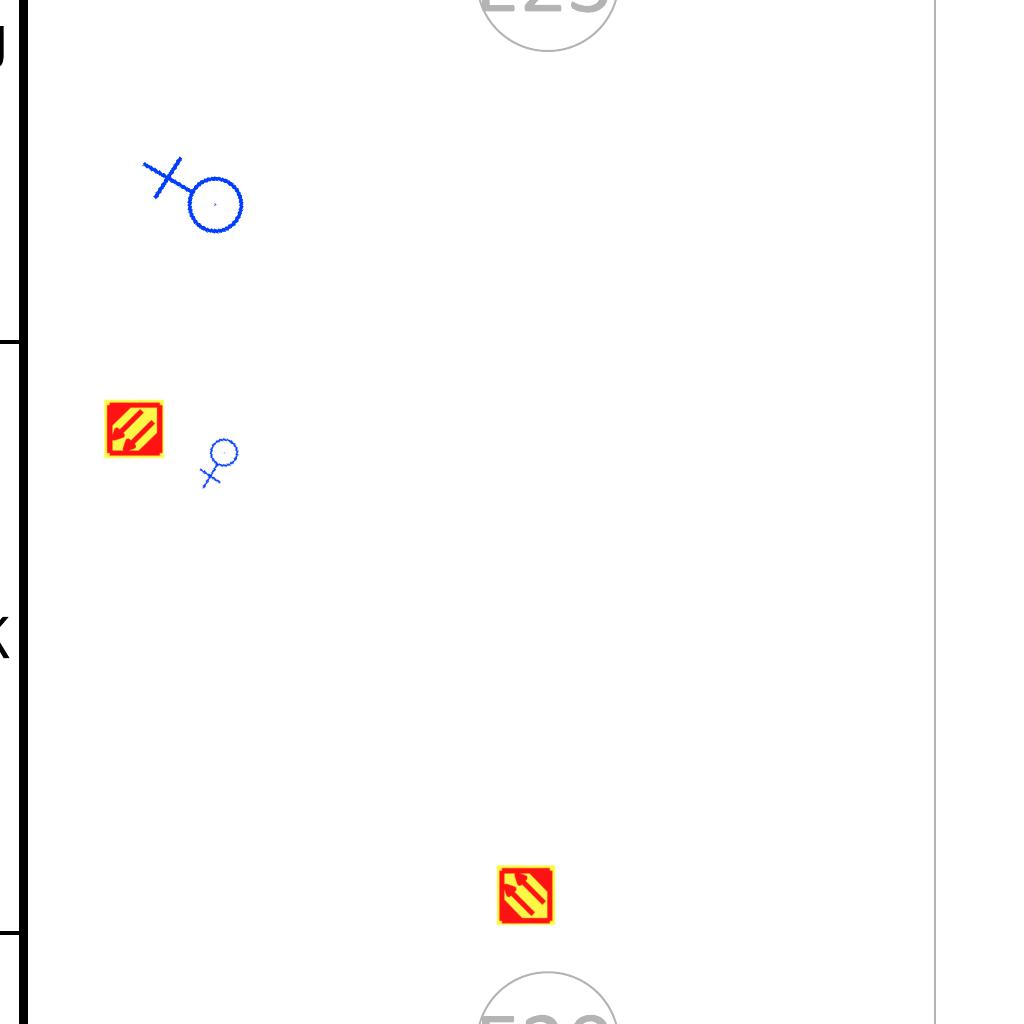ASR_Ansaugrauchmelder: (495, 864, 557, 926), (103, 398, 165, 460)
Elektroanschluss_allgemein_230V_Geraeteanschlussdose_230V: (136, 137, 255, 259), (190, 433, 251, 492)
